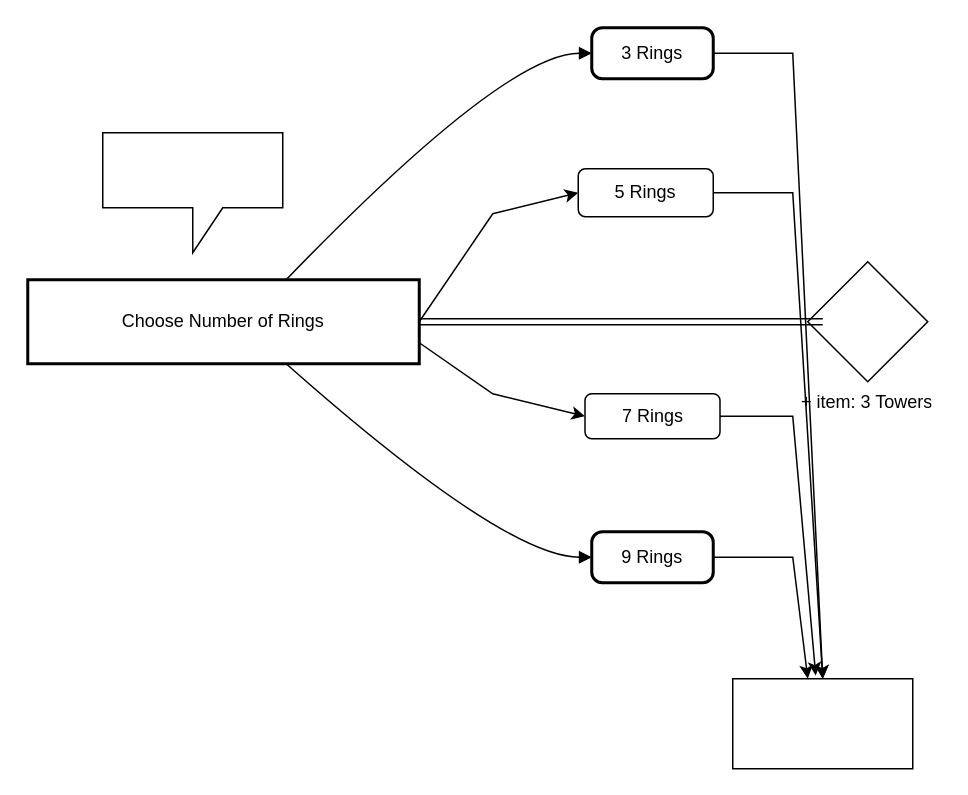
This 968x795 diagram has some shape labels left out. The shapes that lost their labels are listed below. From the top down, each one's centre as x and y in pixels, then its label:
At [192,192]: "Start button basically".
At [867,321]: "Display ToH".
At [822,723]: "SHOW BEST MOVE COUNTER".
